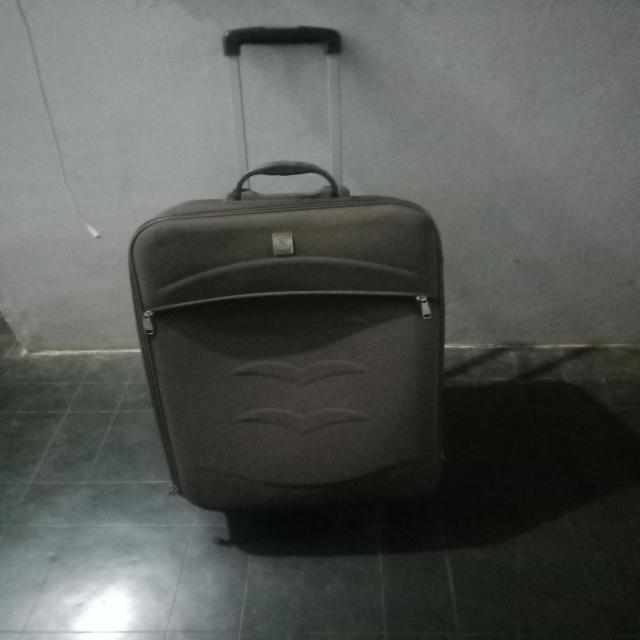luggage: (124, 188, 461, 530)
